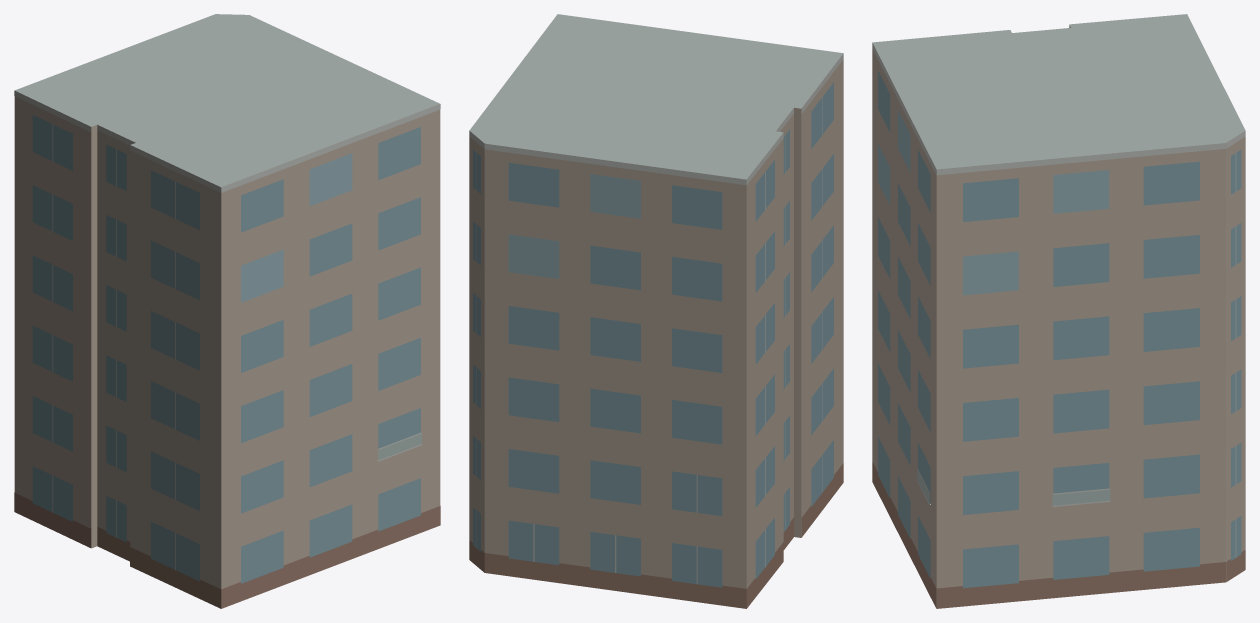
Rendered from survey-upis-32983610.glb.
3 views of the same model, side by side, from view 1: azimuth 30°, elevation 25°; view 2: azimuth 150°, elevation 25°; view 3: azimuth 270°, elevation 25° (orthographic). The views are drawn at different scales.
Parts seen in each view (by area): view 1: survey-upis-32983610.tmp; view 2: survey-upis-32983610.tmp; view 3: survey-upis-32983610.tmp.
Boxes of the visible parts, x1,y1,x2,y2 form: survey-upis-32983610.tmp: (14, 14, 440, 608); survey-upis-32983610.tmp: (469, 14, 843, 608); survey-upis-32983610.tmp: (872, 14, 1245, 608).
Size of the model in its own units: 13.9 by 18.3 by 14.1.
